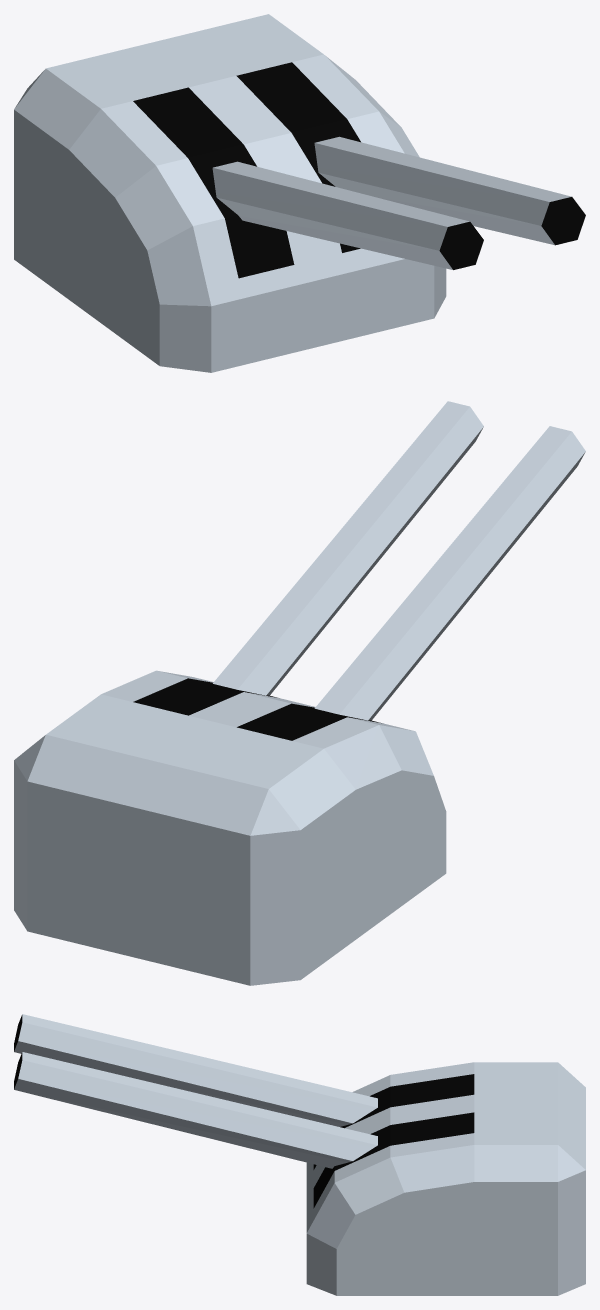
Rendered from battery.FBX.
The picture shows the model from 3 angles, top to bottom: view 1: azimuth 30°, elevation 25°; view 2: azimuth 150°, elevation 25°; view 3: azimuth 270°, elevation 25°; orthographic projection. The views are drawn at different scales.
Visible parts, largest first — view 1: VIFS001, VIFS002; view 2: VIFS001, VIFS002; view 3: VIFS001, VIFS002.
Boxes of the visible parts, bbox=[...] form: VIFS001: bbox=[14, 14, 571, 372]; VIFS002: bbox=[133, 62, 585, 278]; VIFS001: bbox=[14, 401, 585, 985]; VIFS002: bbox=[133, 678, 381, 740]; VIFS001: bbox=[14, 1014, 585, 1295]; VIFS002: bbox=[14, 1015, 474, 1208].
Size of the model in its own units: 0.5816 by 0.525 by 1.32.
